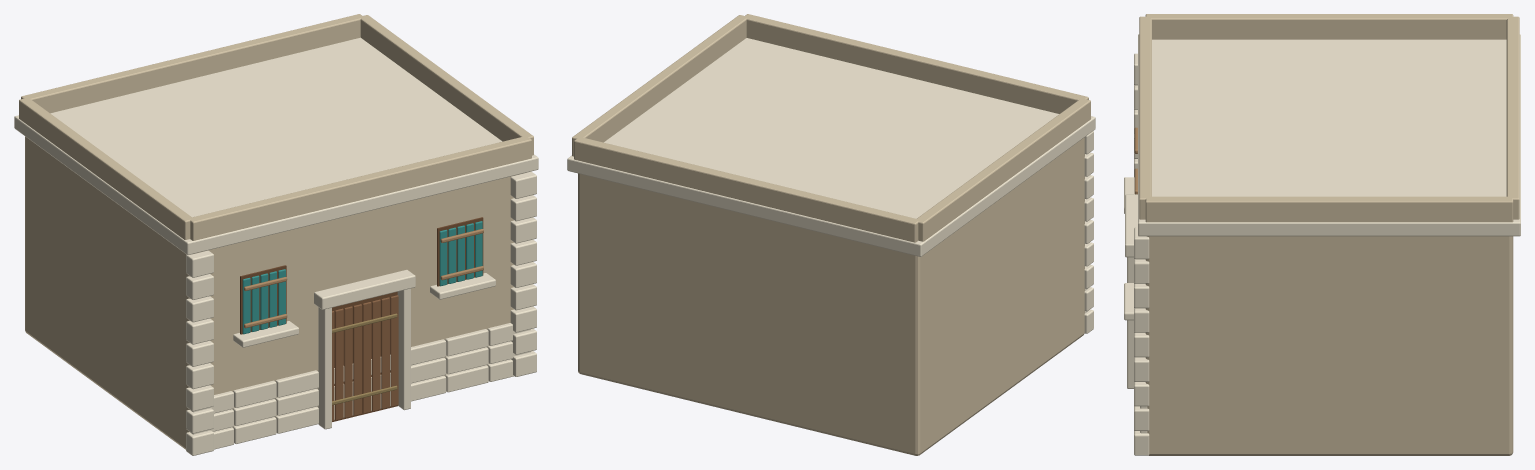
The model's file is workshop-house.glb.
3 renders of one model, left to right at view 1: azimuth 30°, elevation 25°; view 2: azimuth 150°, elevation 25°; view 3: azimuth 270°, elevation 25°, orthographic. The views are drawn at different scales.
Parts seen in each view (by area): view 1: workshop-house__limestone, workshop-house__marble, workshop-house__wood, workshop-house__teal, workshop-house__endgrain, workshop-house__woodlight, workshop-house__bronze; view 2: workshop-house__limestone, workshop-house__marble; view 3: workshop-house__limestone, workshop-house__marble.
Part boxes in pixels (bbox=[...]): workshop-house__limestone: bbox=[19, 14, 533, 449]; workshop-house__marble: bbox=[14, 37, 538, 455]; workshop-house__wood: bbox=[332, 295, 398, 421]; workshop-house__teal: bbox=[242, 221, 482, 334]; workshop-house__endgrain: bbox=[240, 217, 483, 421]; workshop-house__woodlight: bbox=[244, 229, 483, 328]; workshop-house__bronze: bbox=[332, 313, 397, 405]; workshop-house__limestone: bbox=[572, 14, 1090, 455]; workshop-house__marble: bbox=[567, 38, 1095, 333]; workshop-house__limestone: bbox=[1139, 14, 1519, 455]; workshop-house__marble: bbox=[1124, 34, 1520, 455].
Size of the model in its own units: 6.94 by 4.43 by 6.15.
